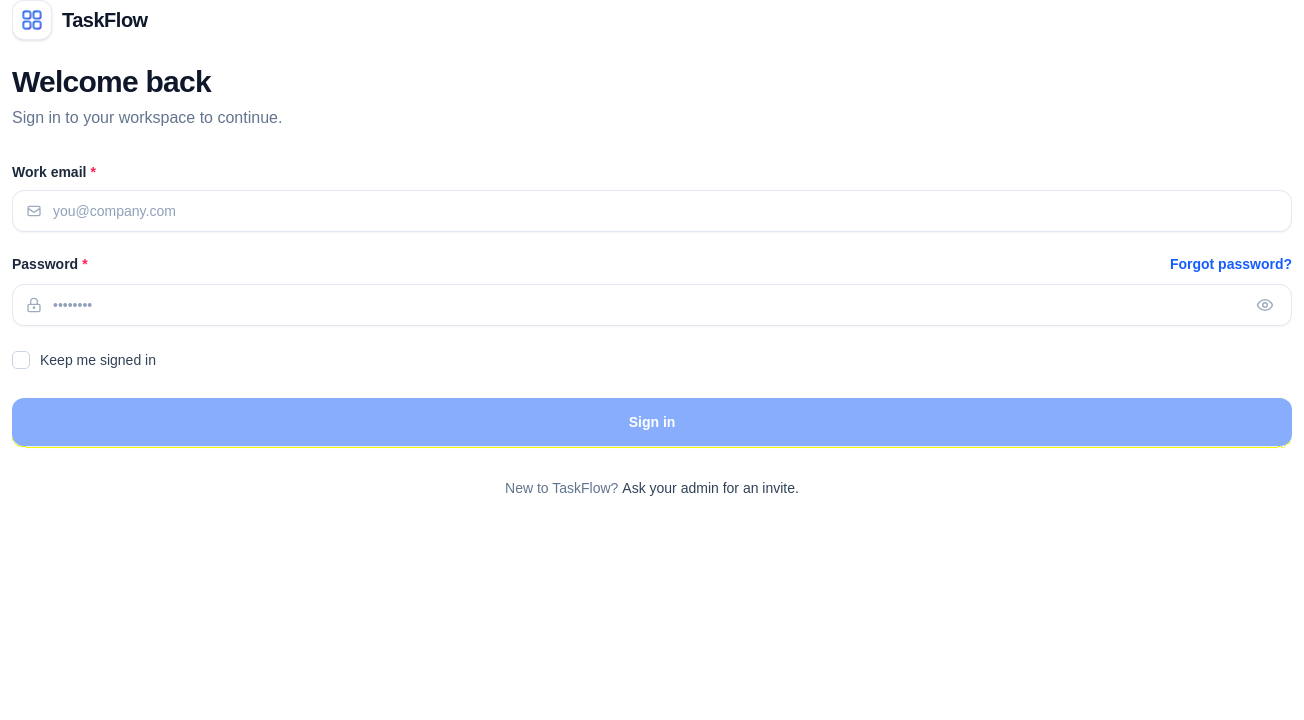
Test: LoginForm Component › displays server error alert when authService.signIn fails
Type "user@taskflow.com" into the field with placeholder "you@company.com" at (652, 211), box [12,190,1292,232]
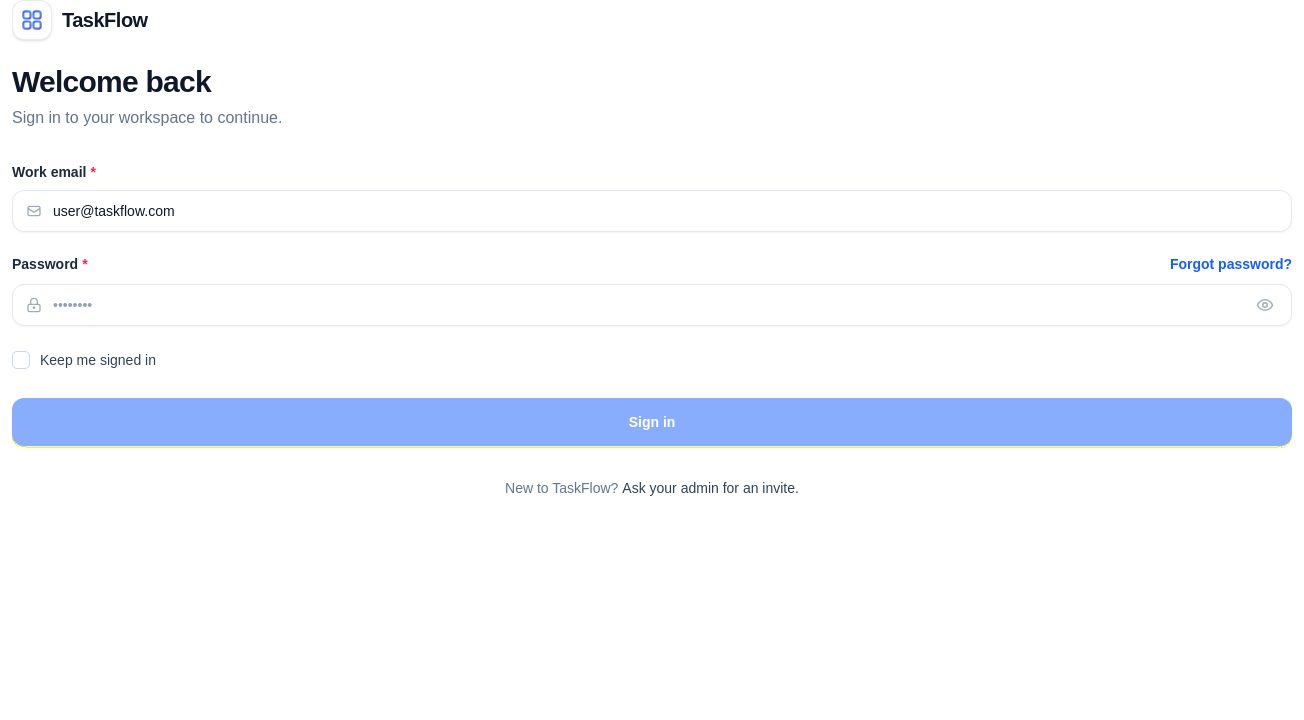
Type "WrongPassword123" into the password field with placeholder "••••••••" at (652, 305), box [12,284,1292,326]
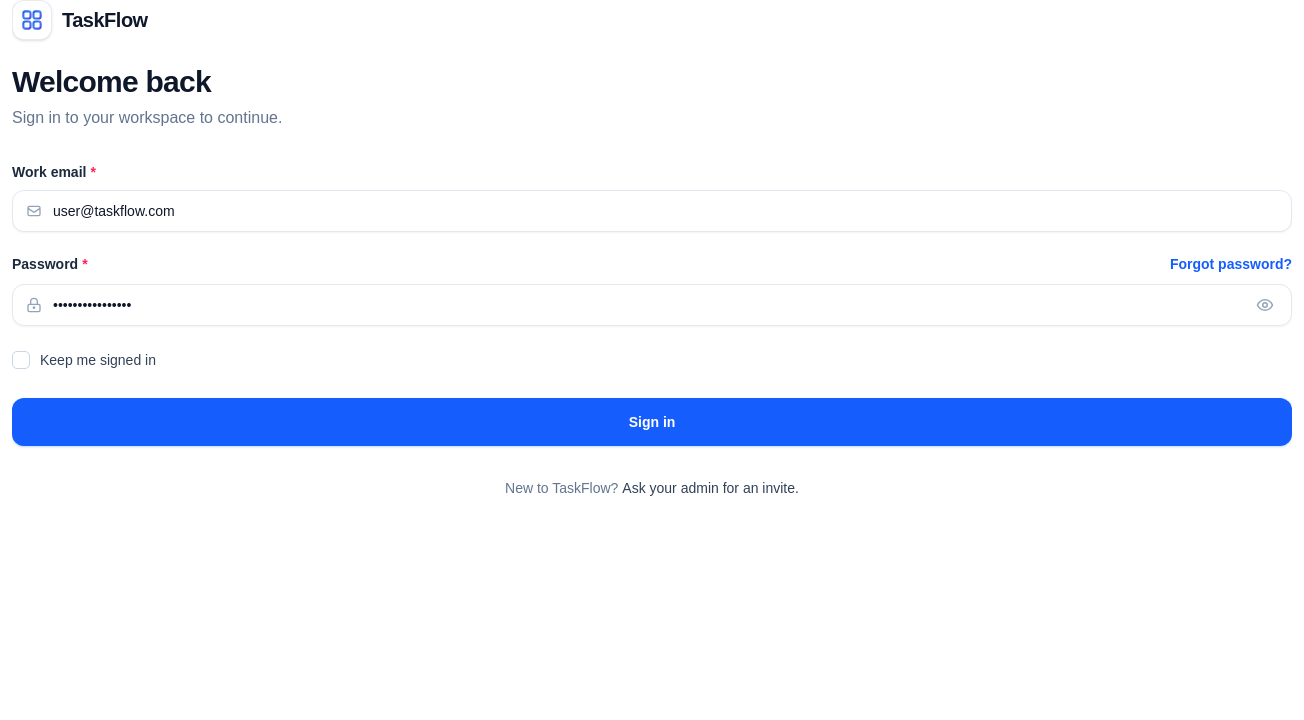
Result: the button "Sign in" is enabled
Click the button "Sign in" at (652, 422), box [12,398,1292,446]
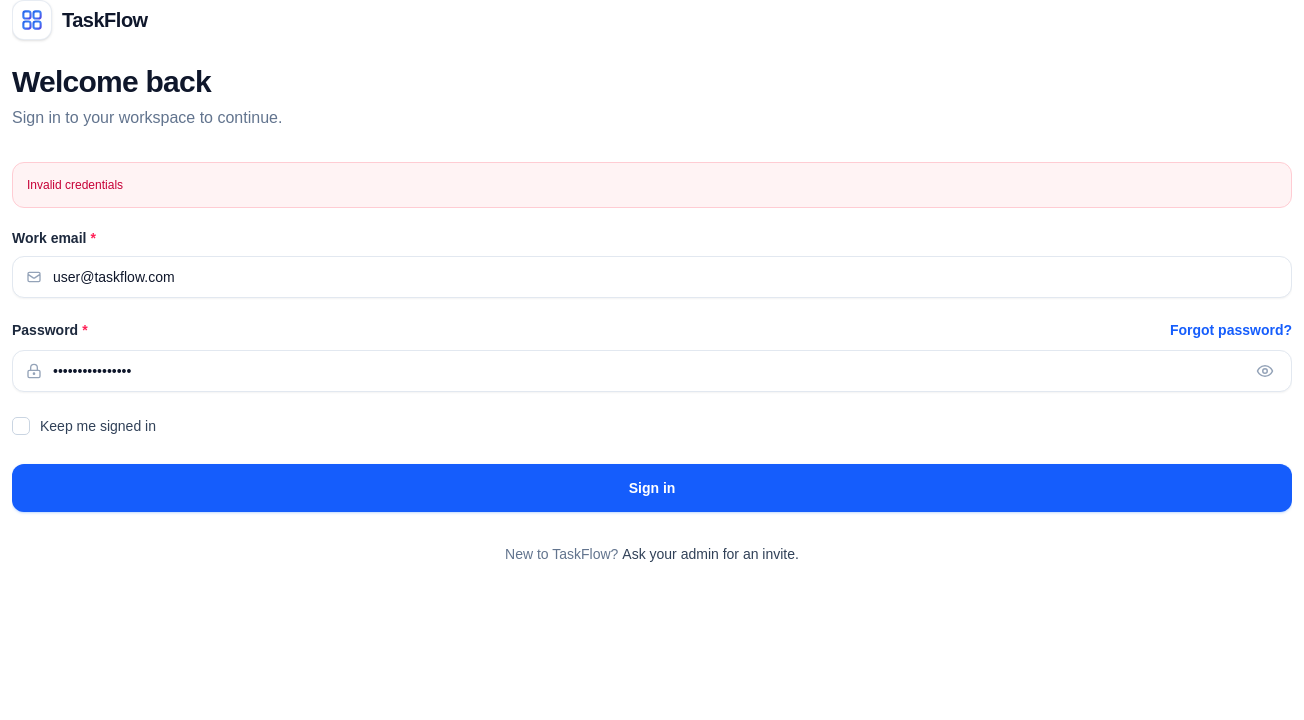
Result: the message reads "Invalid credentials" at [27,178,123,192]
